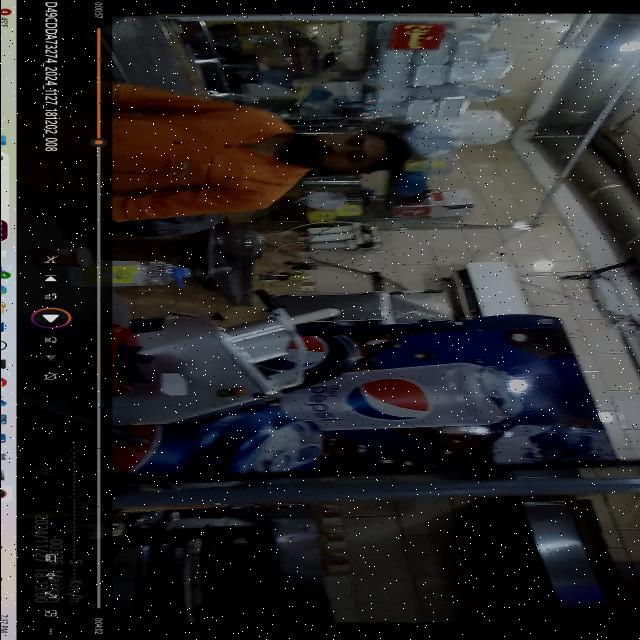face_no_mask: (293, 130, 393, 176)
